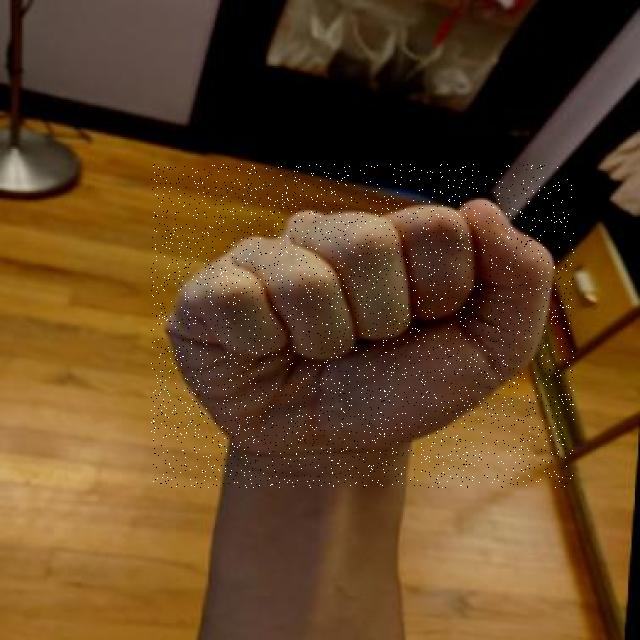A: (151, 164, 574, 488)
